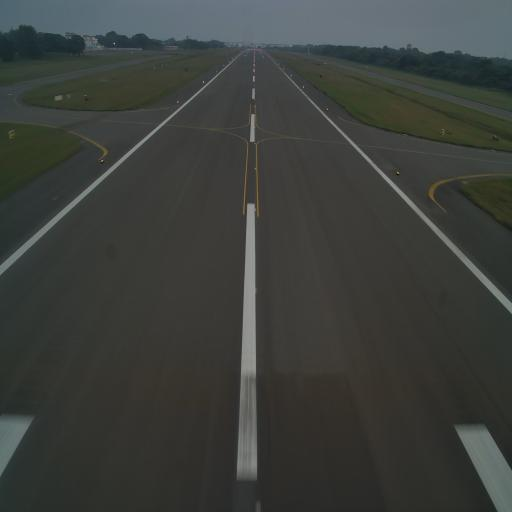on: (98, 157, 104, 168), (254, 285, 259, 295), (253, 206, 258, 213), (253, 166, 258, 173), (396, 169, 400, 176), (325, 106, 329, 112), (301, 85, 305, 89), (202, 79, 204, 85), (254, 141, 256, 147), (253, 126, 256, 130), (177, 100, 179, 104), (254, 114, 256, 118)
